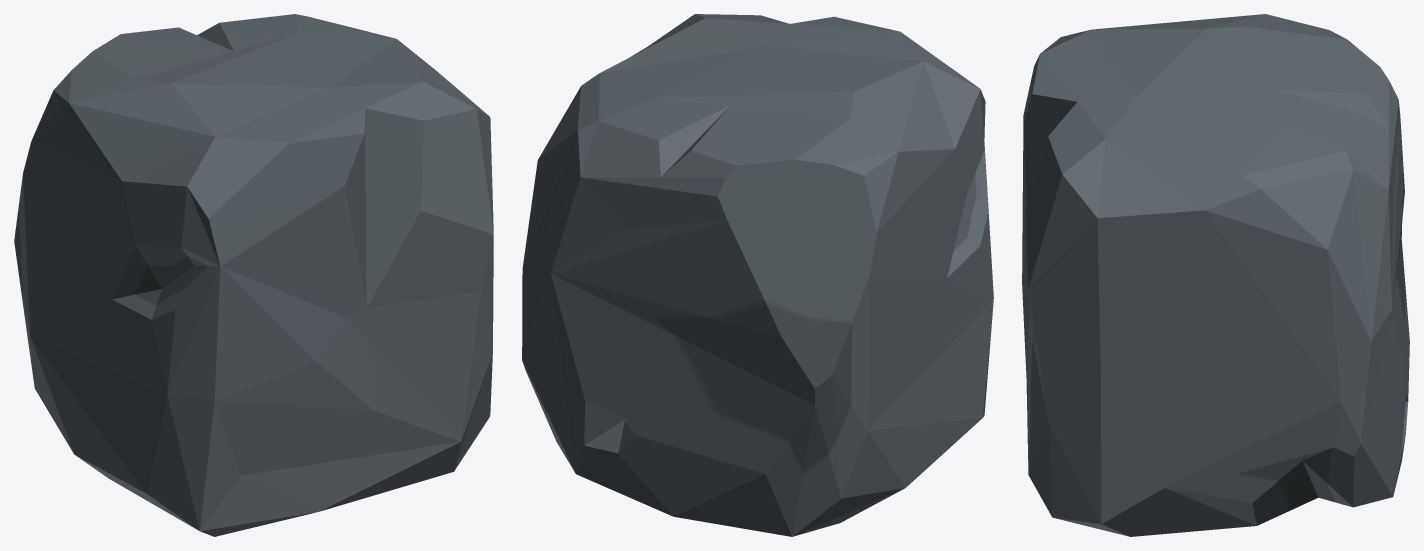
File: SM_Env_Stone_01.fbx
3 renders of one model, left to right at view 1: azimuth 30°, elevation 25°; view 2: azimuth 150°, elevation 25°; view 3: azimuth 270°, elevation 25°, orthographic. The views are drawn at different scales.
Parts seen in each view (by area): view 1: SM_Env_Stone_01; view 2: SM_Env_Stone_01; view 3: SM_Env_Stone_01.
Boxes of the visible parts, <box> form: SM_Env_Stone_01: <box>14,14,493,536</box>; SM_Env_Stone_01: <box>522,14,993,536</box>; SM_Env_Stone_01: <box>1022,14,1409,536</box>.
Bounding box in the file's own units: 112 × 119 × 106.
